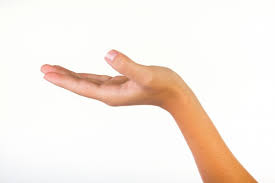hand: (33, 40, 197, 120)
